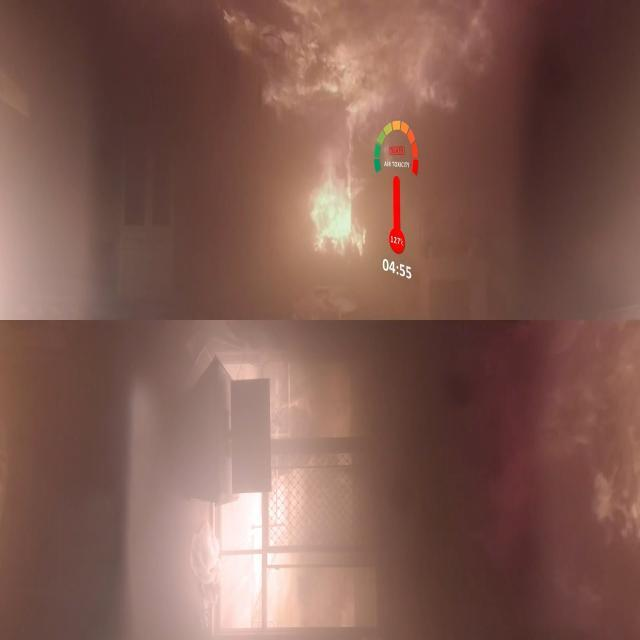Fire: (304, 161, 370, 258), (219, 514, 266, 624)
